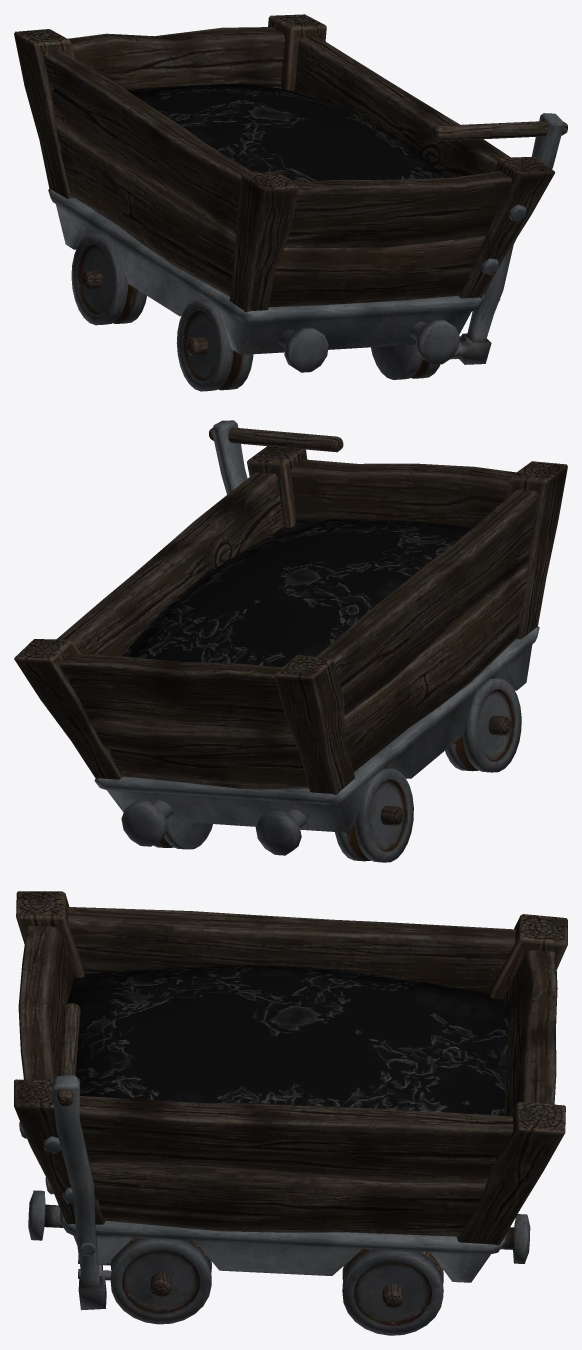
File: minecart.glb
3 views of the same model, one above another, from view 1: azimuth 30°, elevation 25°; view 2: azimuth 150°, elevation 25°; view 3: azimuth 270°, elevation 25° (orthographic). The views are drawn at different scales.
Parts seen in each view (by area): view 1: Minecart020_low_MinecartMat.001_0, Minecart010_low_CoalMat.001_0; view 2: Minecart020_low_MinecartMat.001_0, Minecart010_low_CoalMat.001_0; view 3: Minecart020_low_MinecartMat.001_0, Minecart010_low_CoalMat.001_0.
Part boxes in pixels (x1,y1,x2,y2): Minecart020_low_MinecartMat.001_0: (14, 14, 567, 391); Minecart010_low_CoalMat.001_0: (126, 83, 446, 182); Minecart020_low_MinecartMat.001_0: (14, 420, 567, 862); Minecart010_low_CoalMat.001_0: (122, 518, 471, 667); Minecart020_low_MinecartMat.001_0: (14, 891, 567, 1335); Minecart010_low_CoalMat.001_0: (67, 965, 508, 1115).
Bounding box in the file's own units: 1043 × 887 × 1358.
2 materials, 2 textured.
